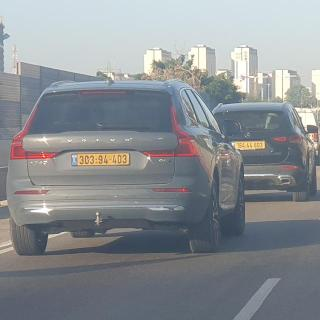LicensePlate: (77, 153, 129, 166), (235, 141, 265, 149)
